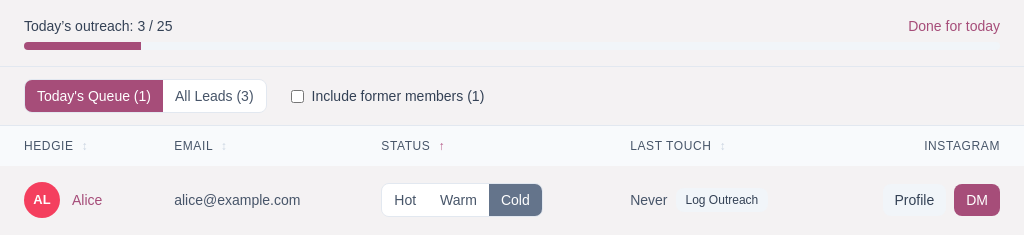
it: OutreachTable — Today's Queue view (default) › logging an outreach increments the daily count and marks the lead done
Expected: the text "Today’s outreach: 3 / 25" is shown, [24, 16, 172, 36]
Step 1. Click the button "Log Outreach" → (722, 200), box [676, 188, 768, 212]
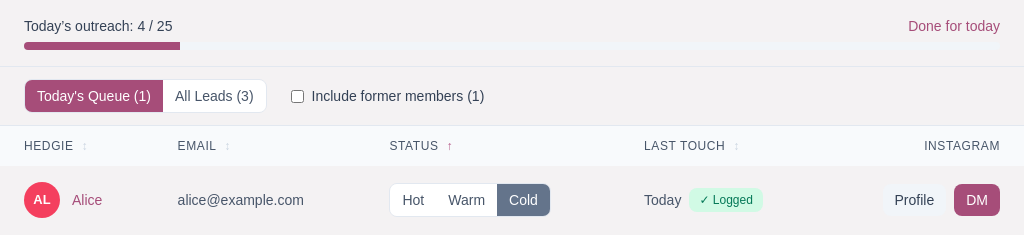
Expected: the text "Today’s outreach: 4 / 25" is shown, [24, 16, 172, 36]
Expected: the button "✓ Logged" is disabled, [689, 188, 763, 212]
